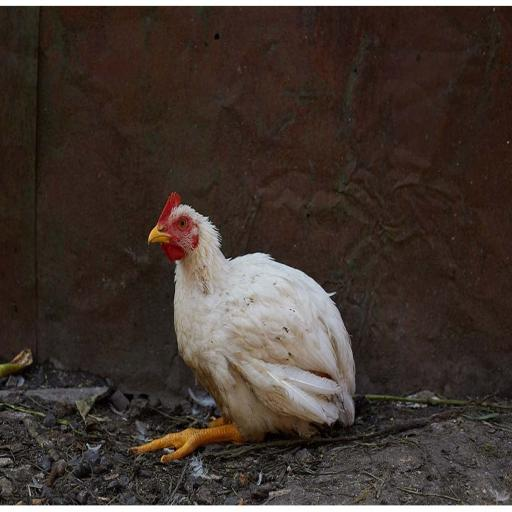healthy: (148, 185, 212, 256)
